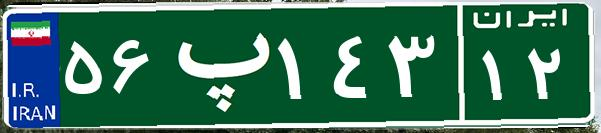1: (273, 28, 330, 110), (475, 38, 525, 113)
2: (525, 38, 570, 115)
3: (385, 28, 445, 110)
4: (330, 28, 385, 110)
5: (57, 26, 110, 107)
6: (110, 28, 158, 105)
پ: (158, 15, 273, 115)
